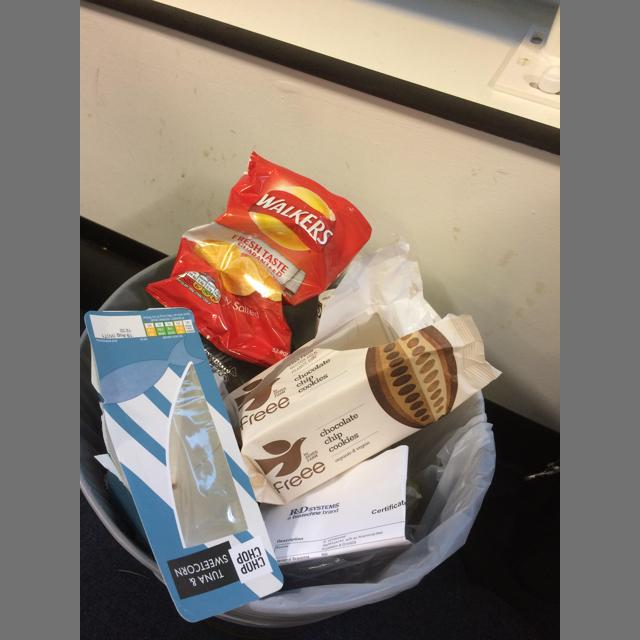litter: (224, 234, 502, 505), (84, 307, 283, 622), (246, 389, 496, 615), (145, 151, 372, 368), (265, 445, 411, 566), (238, 312, 400, 408), (169, 365, 248, 548)
